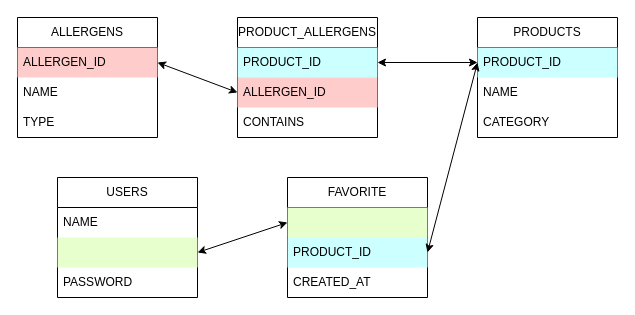
Image size: 635x315. Some labels were removed from this diagram. Each missing label, with the centre of its shape:
"ID" belongs at point (127, 252).
"USER_ID" belongs at point (357, 222).
